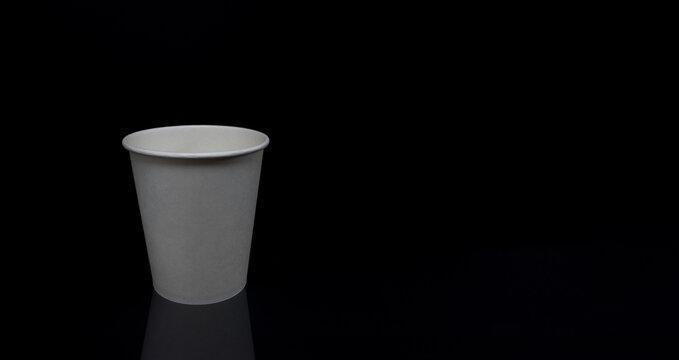cup-disposable: (120, 119, 271, 307)
